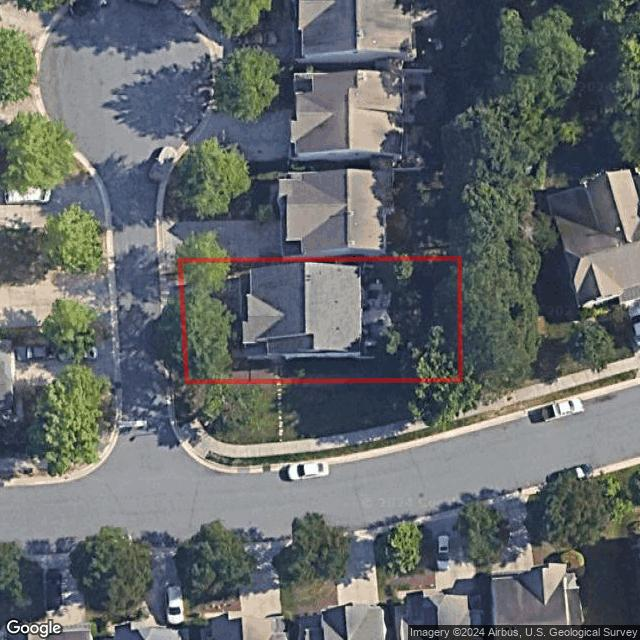Driveway: (183, 321, 244, 358)
Extra-Driveway: (163, 321, 184, 358)
Extra-Lawn: (186, 380, 465, 444), (205, 417, 469, 466), (166, 261, 183, 321)
Extra-Sidewalk: (181, 405, 466, 460)
House: (241, 262, 361, 358)
Lawn: (181, 259, 460, 382)
Other: (360, 281, 394, 358)
